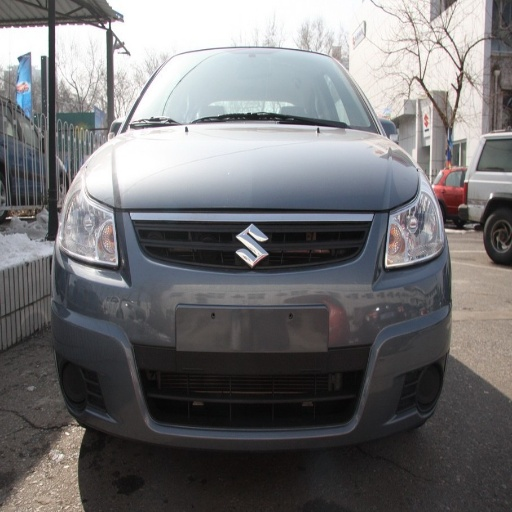front_bumper: (49, 208, 449, 448)
front_right_light: (59, 176, 121, 268)
hood: (87, 124, 419, 210)
